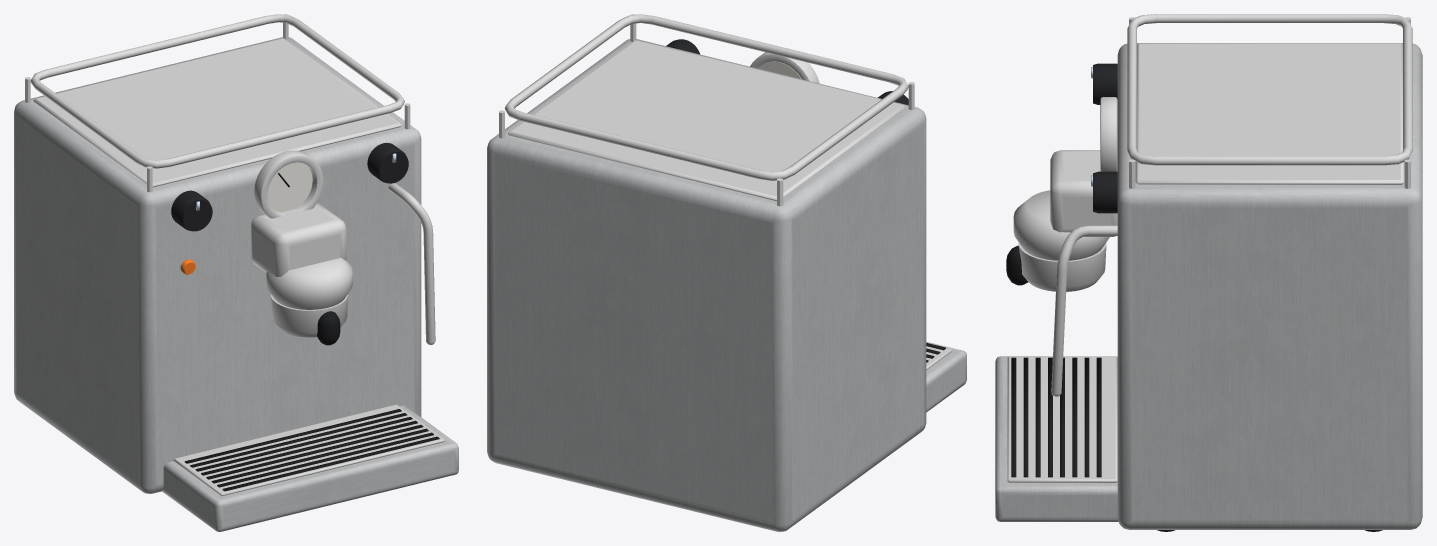
File: cafetera_espresso_inox.glb
3 views of the same model, side by side, from view 1: azimuth 30°, elevation 25°; view 2: azimuth 150°, elevation 25°; view 3: azimuth 270°, elevation 25° (orthographic). The views are drawn at different scales.
Parts seen in each view (by area): view 1: cafetera_espresso_inox; view 2: cafetera_espresso_inox; view 3: cafetera_espresso_inox.
Part boxes in pixels (x1,y1,x2,y2): cafetera_espresso_inox: (14,14,458,531); cafetera_espresso_inox: (487,14,966,531); cafetera_espresso_inox: (995,14,1422,531).
Bounding box in the file's own units: 0.3 × 0.348 × 0.35.
Materials: 7 (1 with a texture image).
